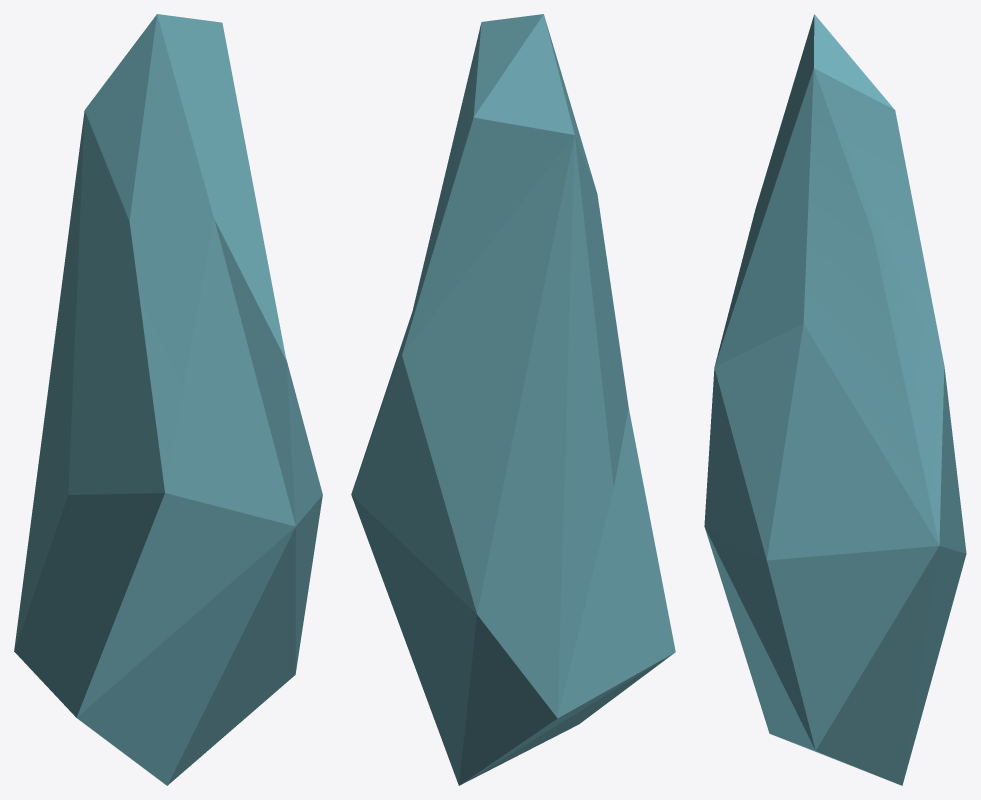
File: Crystal_02.glb
3 renders of one model, left to right at view 1: azimuth 30°, elevation 25°; view 2: azimuth 150°, elevation 25°; view 3: azimuth 270°, elevation 25°, orthographic. The views are drawn at different scales.
Visible parts, largest first — view 1: Crystal_02; view 2: Crystal_02; view 3: Crystal_02.
Part boxes in pixels (left/top/right/bottom): Crystal_02: left=14, top=14, right=322, bottom=785; Crystal_02: left=351, top=14, right=675, bottom=785; Crystal_02: left=704, top=14, right=966, bottom=785.
Size of the model in its own units: 0.4918 by 1.46 by 0.4625.
Materials: 1 (1 with a texture image).
